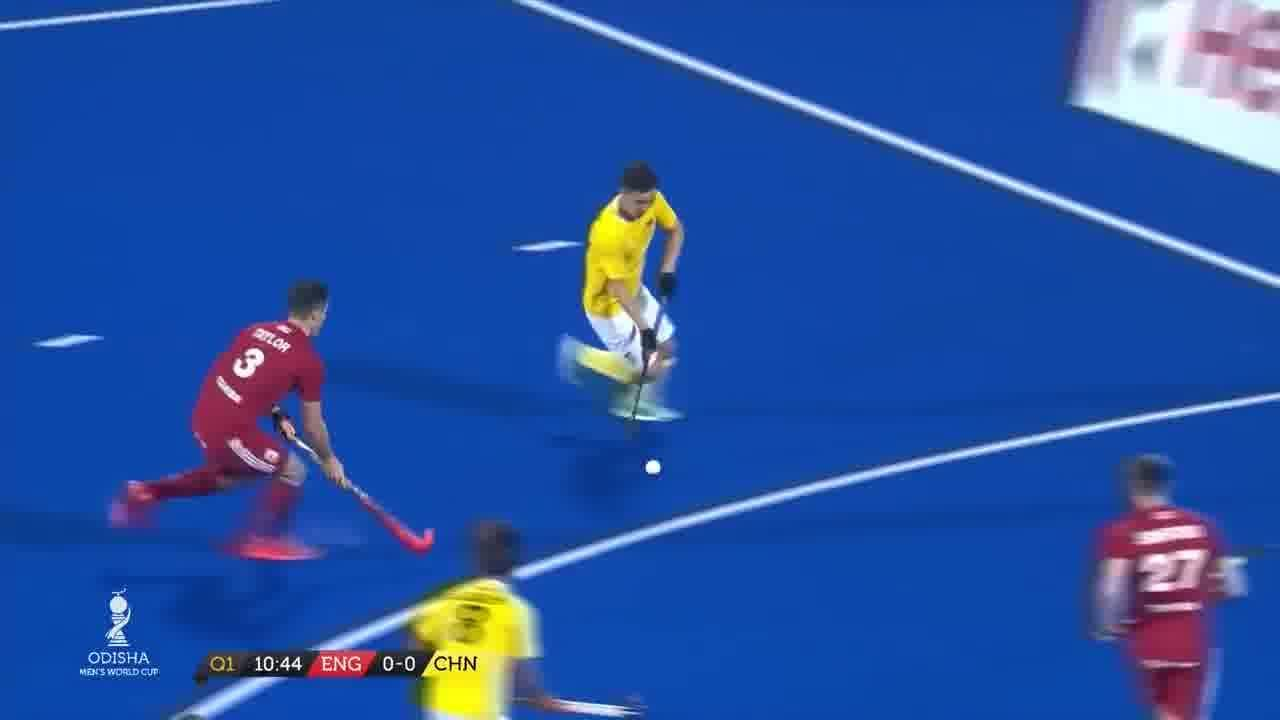ball: (634, 456, 674, 484)
